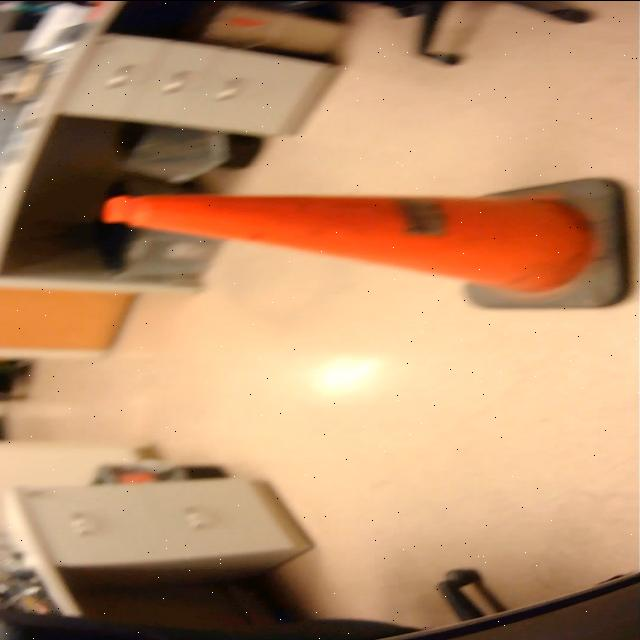traffic cone: (93, 172, 637, 318)
